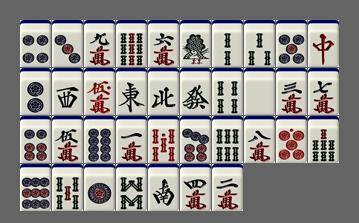0m: (84, 68, 115, 115)
0p: (276, 116, 307, 163)
0s: (148, 116, 179, 163)
1m: (116, 116, 147, 163)
1p: (84, 164, 115, 211)
1s: (180, 20, 211, 67)
1z: (116, 68, 147, 115)
2m: (212, 164, 243, 211)
2p: (20, 68, 51, 115)
2s: (212, 20, 243, 67)
2z: (148, 164, 179, 211)
3m: (276, 68, 307, 115)
3p: (52, 20, 83, 67)
3s: (244, 20, 275, 67)
3z: (52, 68, 83, 115)
4m: (180, 164, 211, 211)
4p: (20, 20, 51, 67)
4s: (212, 68, 243, 115)
4z: (148, 68, 179, 115)
5m: (52, 116, 83, 163)
5p: (276, 20, 307, 67)
5s: (52, 164, 83, 211)
5z: (244, 68, 275, 115)
6m: (148, 20, 179, 67)
6p: (20, 116, 51, 163)
6s: (212, 116, 243, 163)
6z: (180, 68, 211, 115)
7m: (308, 68, 339, 115)
7p: (180, 116, 211, 163)
7s: (308, 116, 339, 163)
7z: (308, 20, 339, 67)
8m: (244, 116, 275, 163)
8p: (84, 116, 115, 163)
8s: (116, 164, 147, 211)
9m: (84, 20, 115, 67)
9p: (20, 164, 51, 211)
9s: (116, 20, 147, 67)
